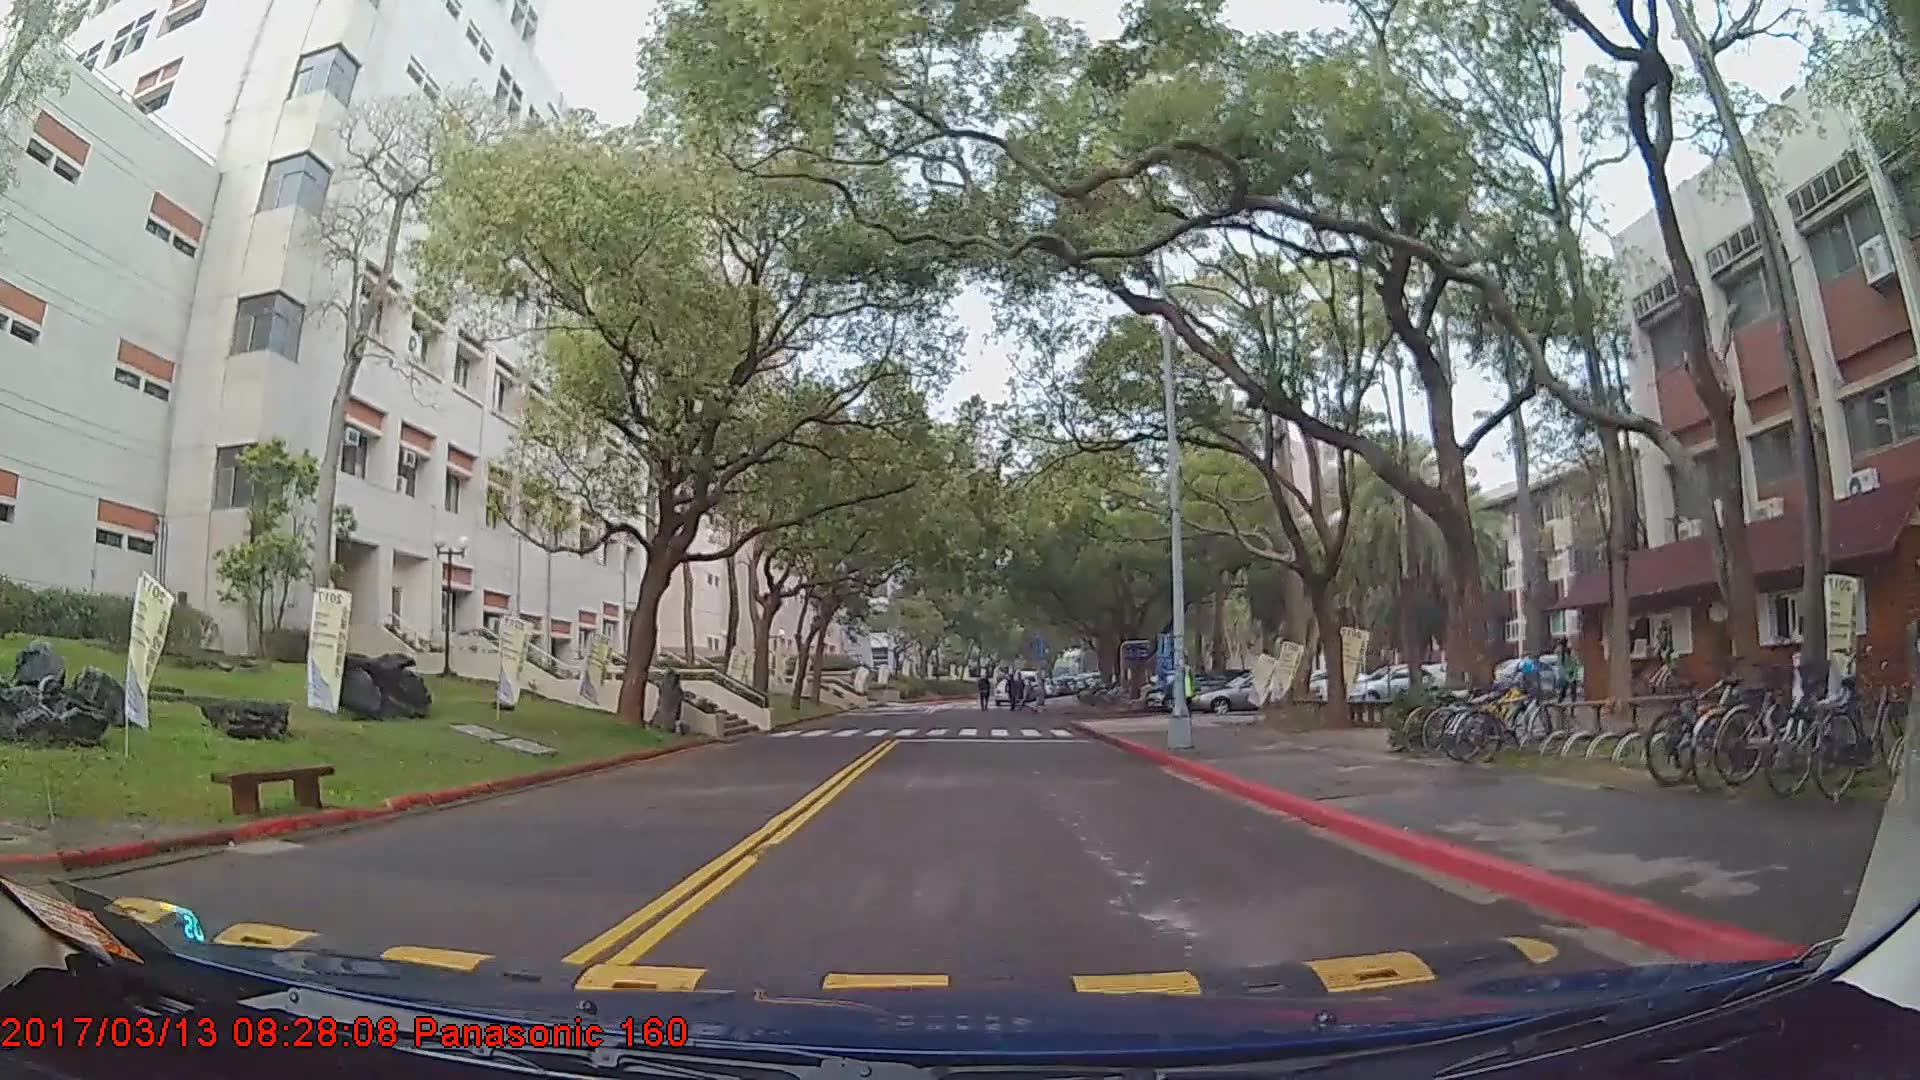vehicle: (1189, 670, 1321, 712), (1344, 661, 1453, 705)
